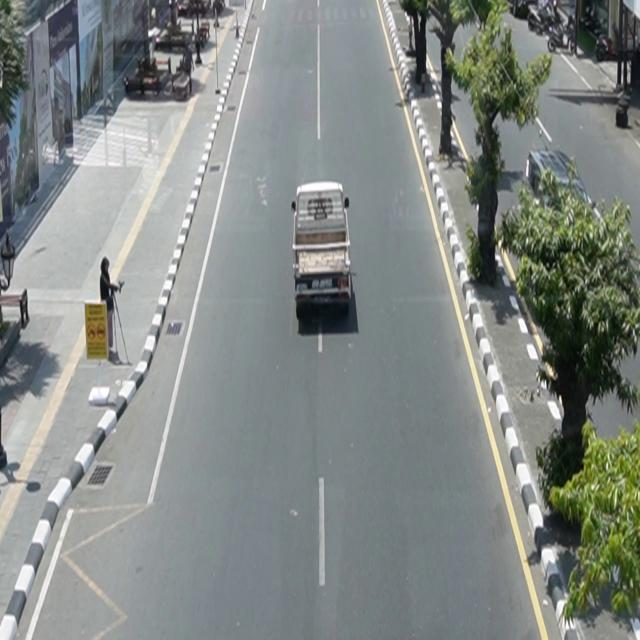car: (292, 181, 353, 319)
